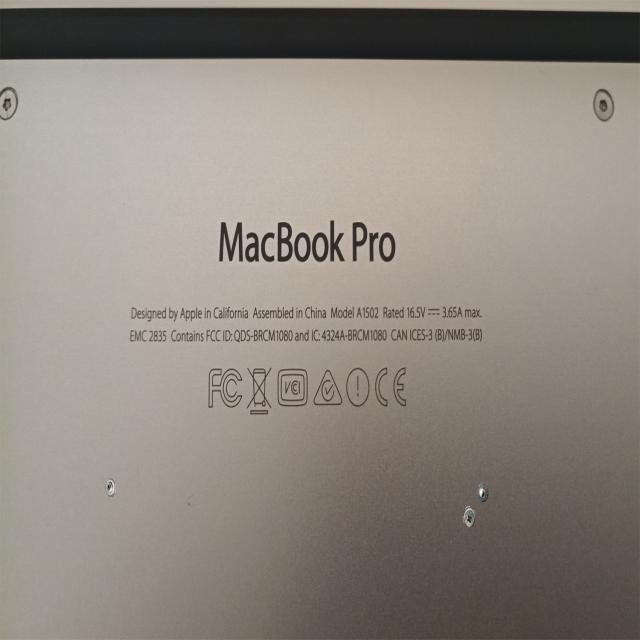lock: (463, 505, 475, 527)
missing_screw: (477, 482, 489, 503), (105, 478, 116, 497)
